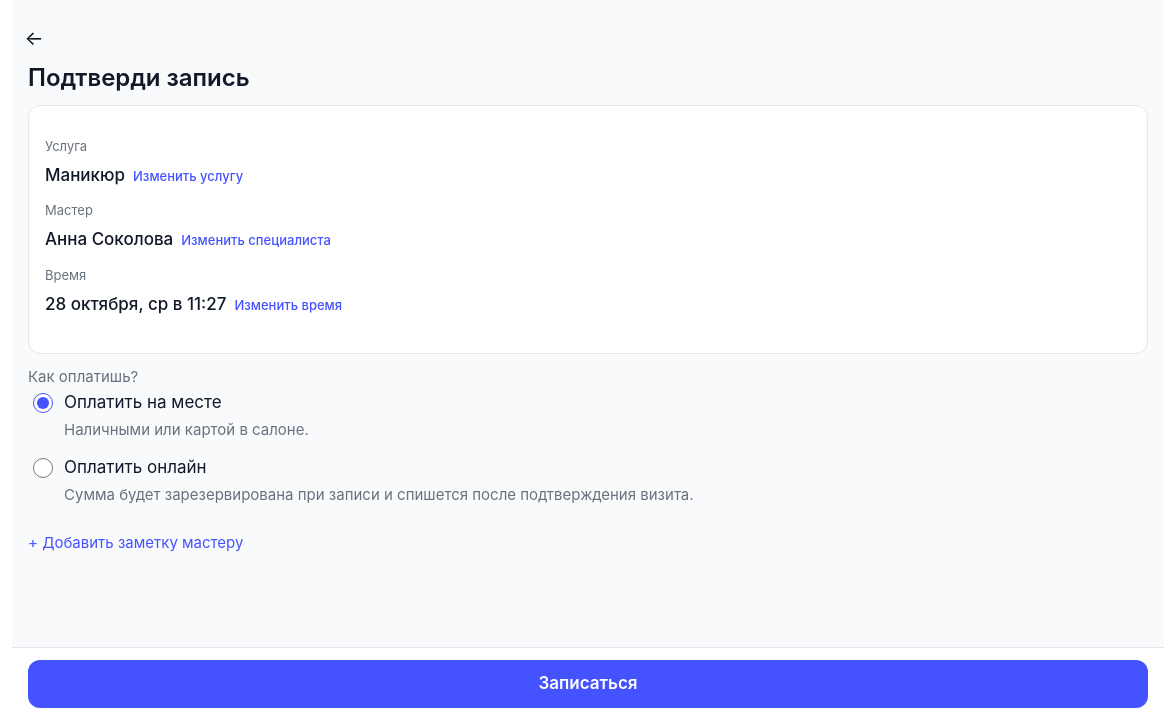
Scenario: C1 neutral unavailable message (contract §2) › keeps the slot-race 409 copy distinct from the C1 neutral message
This screenshot has width=1164, height=720.
Click the button "Записаться".
click(588, 684)  # box [28, 660, 1148, 708]
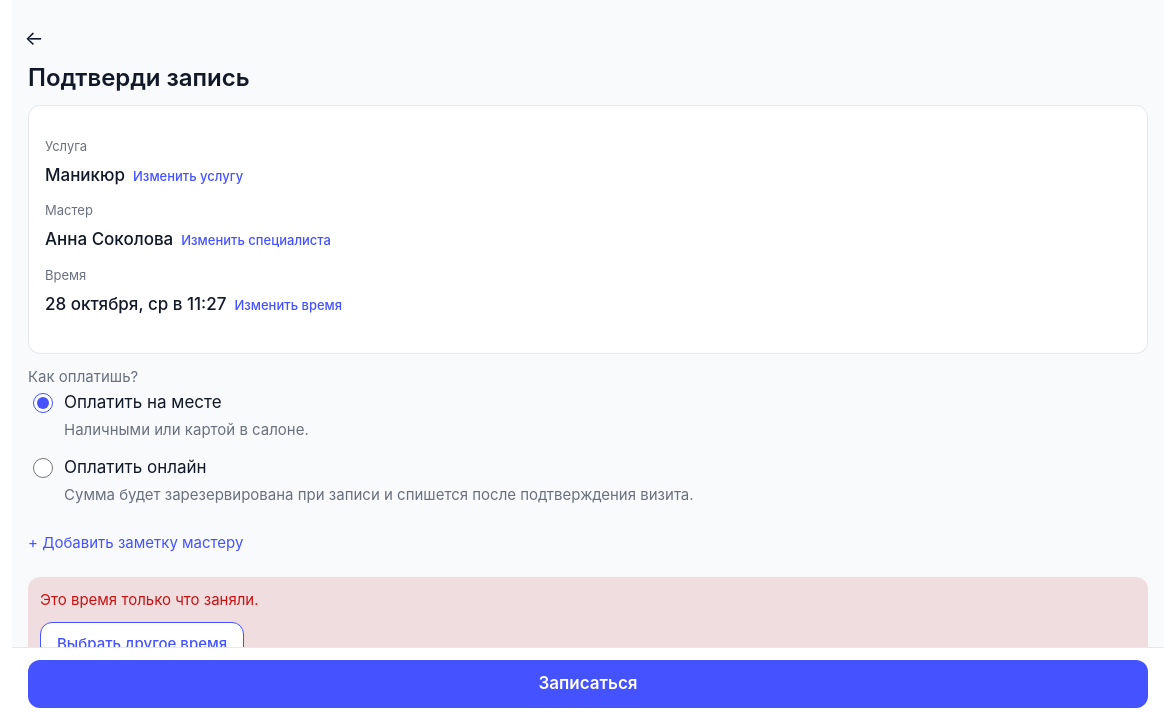
Result: the text "Это время только что заняли." is shown at [40, 590, 259, 608]
